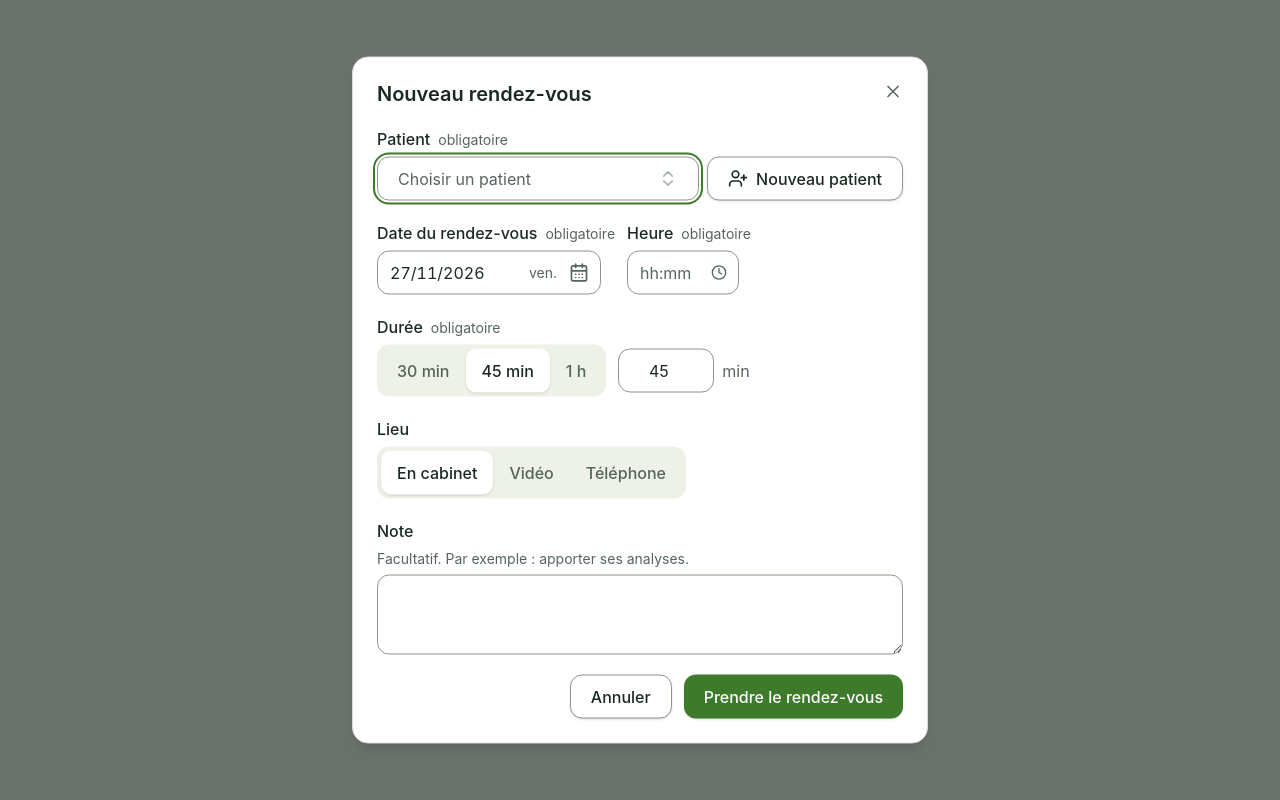
Test: AppointmentFormDialog: « Nouveau patient » from the agenda › goes back to the appointment without creating anyone
Click the button "Nouveau patient": coordinates (805, 178) x1=707 y1=156 x2=903 y2=200
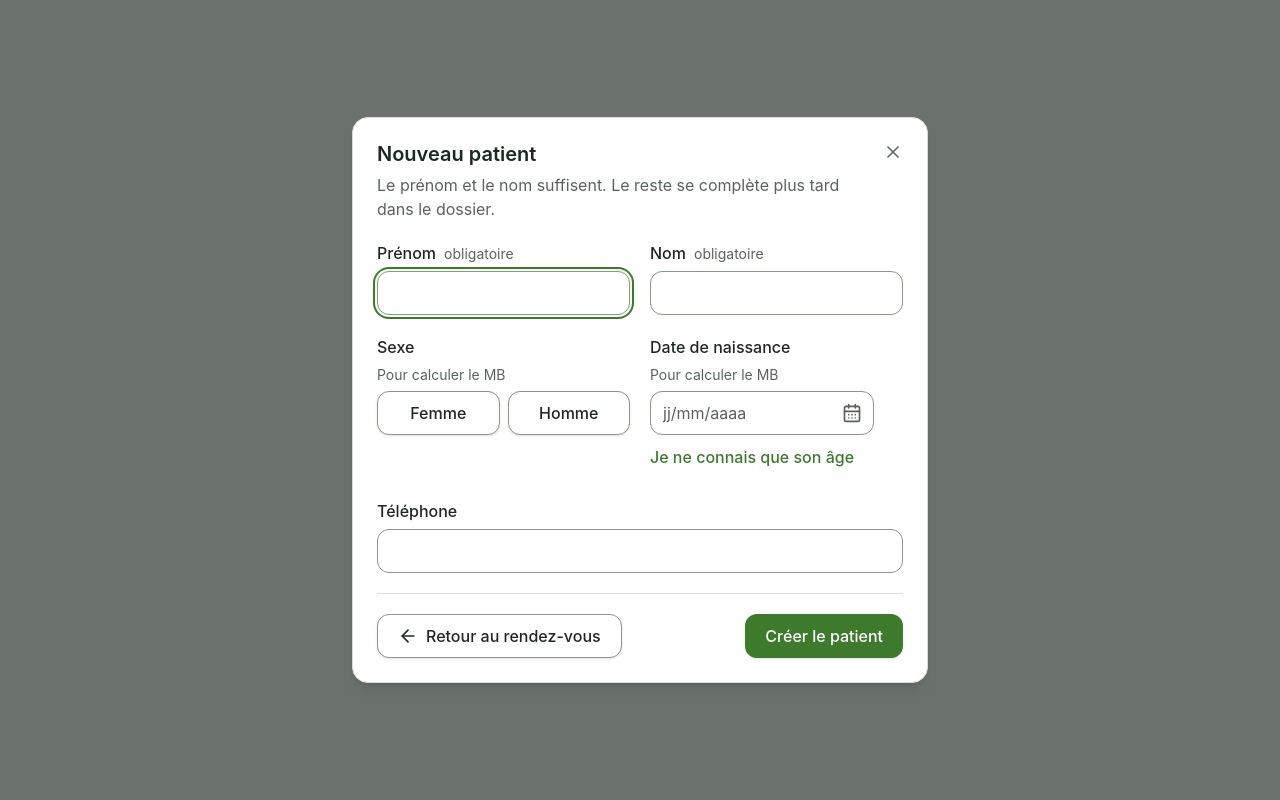
Click the button "Retour au rendez-vous": coordinates (499, 636) x1=377 y1=614 x2=622 y2=658
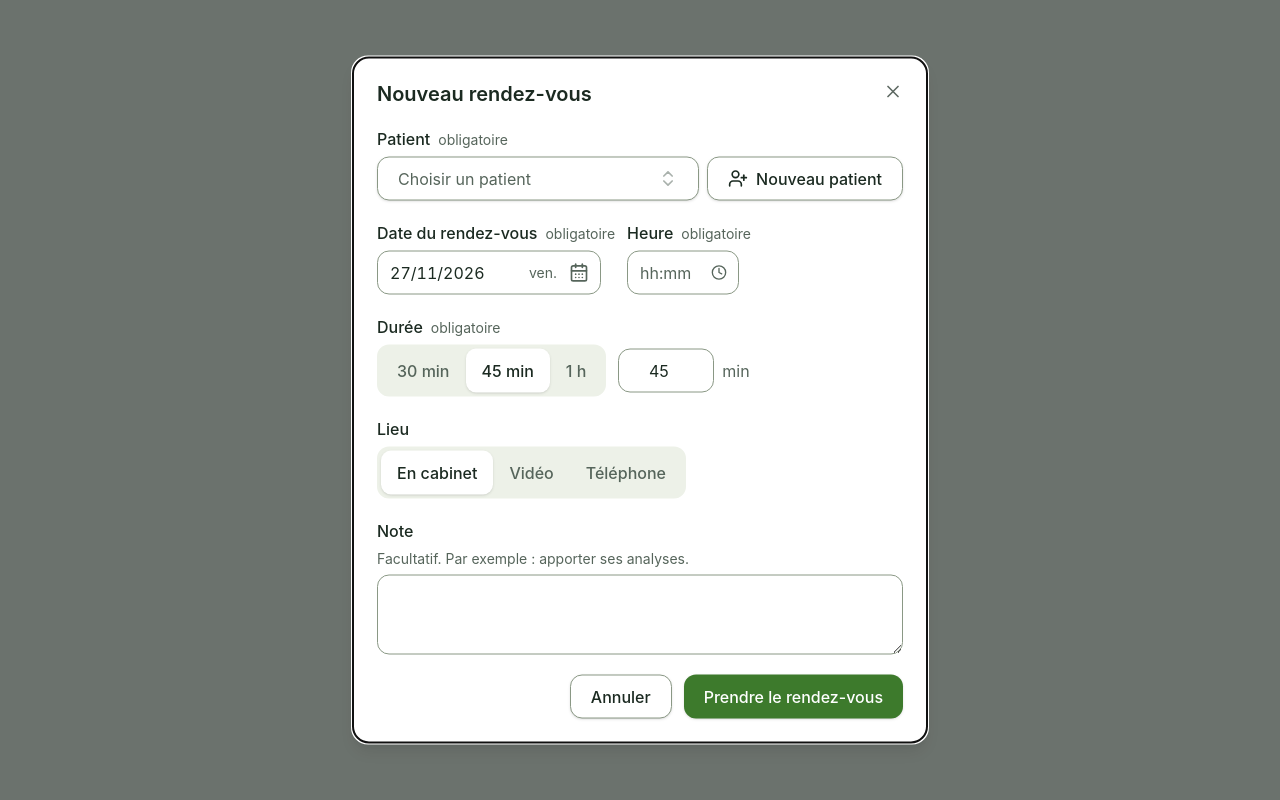
Check: the heading "Nouveau rendez-vous" is shown, box x1=377 y1=82 x2=592 y2=106
